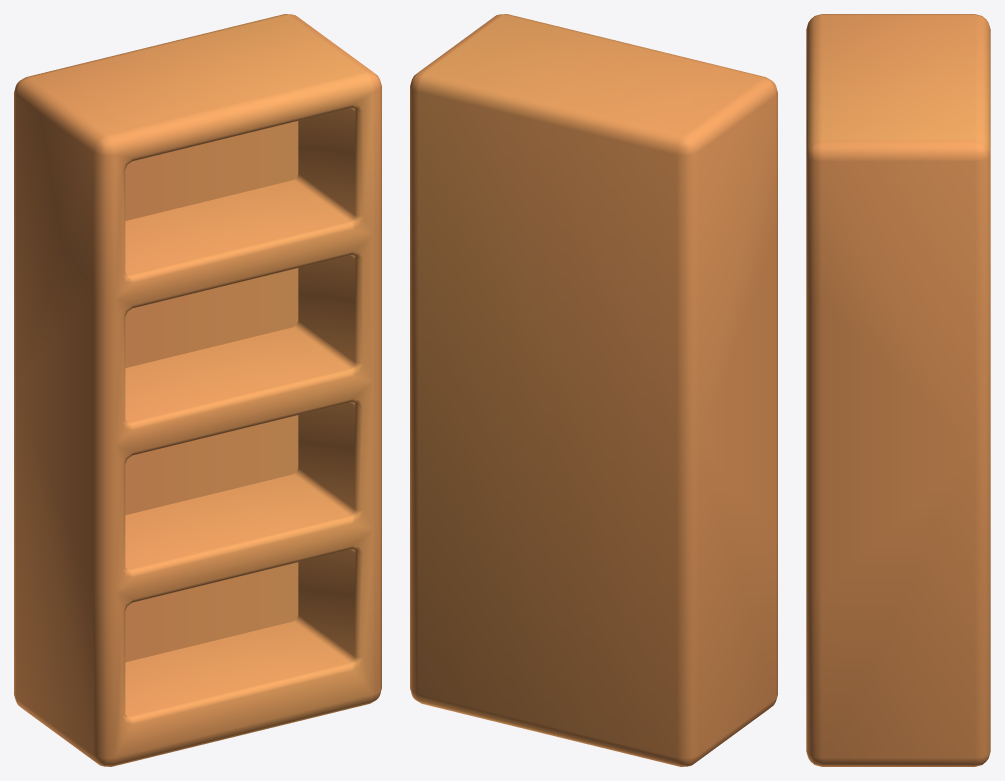
The model's file is Shelving_02.glb.
3 renders of one model, left to right at view 1: azimuth 30°, elevation 25°; view 2: azimuth 150°, elevation 25°; view 3: azimuth 270°, elevation 25°, orthographic.
Visible parts, largest first — view 1: Shelving_02; view 2: Shelving_02; view 3: Shelving_02.
Boxes of the visible parts, x1=… form: Shelving_02: x1=14, y1=14, x2=381, y2=766; Shelving_02: x1=410, y1=14, x2=777, y2=766; Shelving_02: x1=806, y1=14, x2=990, y2=766.
Bounding box in the file's own units: 0.7073 × 1.49 × 0.3987.
Materials: 1 (1 with a texture image).
